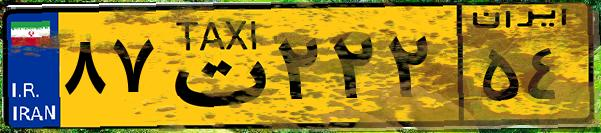2: (270, 28, 330, 110), (385, 28, 445, 110), (330, 28, 385, 110)
4: (525, 38, 570, 115)
5: (475, 38, 525, 113)
7: (110, 28, 158, 98)
8: (57, 26, 110, 100)
ت: (158, 12, 270, 120)
